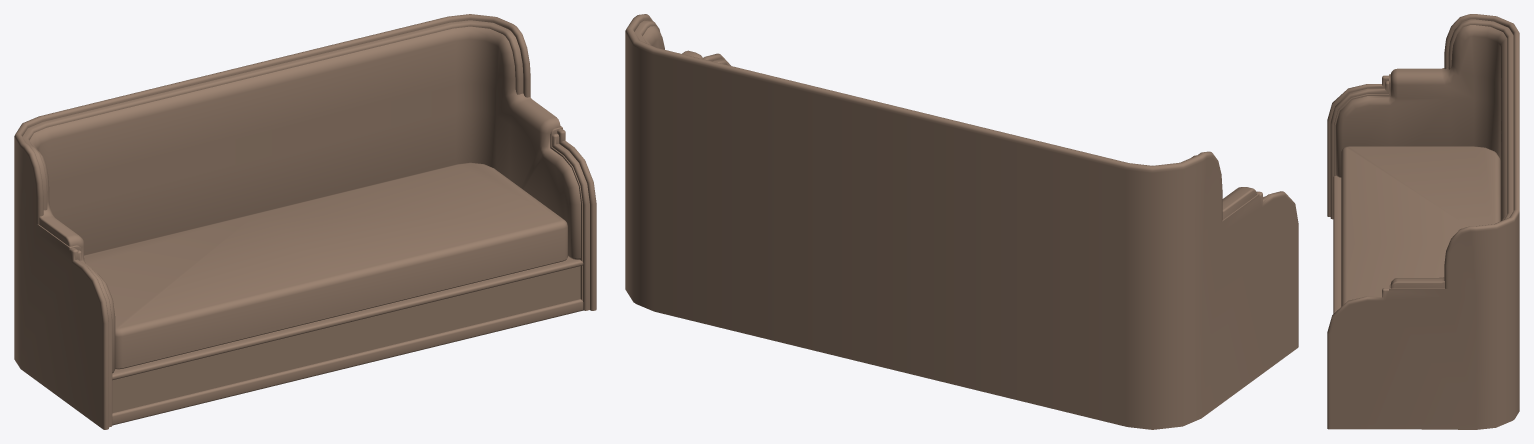
Rendered from SM_Sofa_Straight.fbx.
The picture shows the model from 3 angles, left to right: view 1: azimuth 30°, elevation 25°; view 2: azimuth 150°, elevation 25°; view 3: azimuth 270°, elevation 25°; orthographic projection. The views are drawn at different scales.
Visible parts, largest first — view 1: SM_Sofa_Straight; view 2: SM_Sofa_Straight; view 3: SM_Sofa_Straight.
Part boxes in pixels (x1,y1,x2,y2): SM_Sofa_Straight: (14,14,596,429); SM_Sofa_Straight: (625,14,1298,429); SM_Sofa_Straight: (1327,14,1519,429).
Bounding box in the file's own units: 200 × 88 × 75.8.
